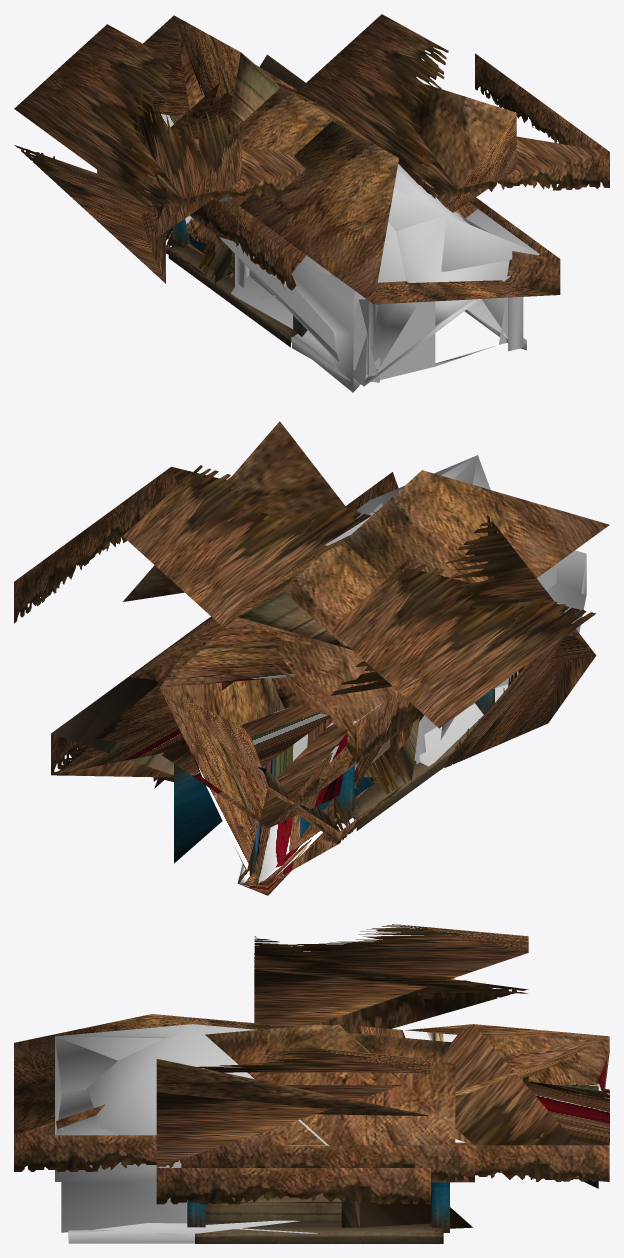
Rendered from stbuho6.dae.
The picture shows the model from 3 angles, top to bottom: view 1: azimuth 30°, elevation 25°; view 2: azimuth 150°, elevation 25°; view 3: azimuth 270°, elevation 25°; orthographic projection. The views are drawn at different scales.
Visible parts, largest first — view 1: brevno02, brevno01, frontobj, ladder, mainfigure, backobj, border; view 2: backobj, brevno02, brevno01, mainfigure, ladder, frontobj, border; view 3: brevno01, backobj, mainfigure, frontobj, brevno02, ladder, border.
Part boxes in pixels (<box>): brevno02: <box>14,24,305,283</box>; brevno01: <box>296,14,609,212</box>; frontobj: <box>219,164,539,392</box>; ladder: <box>239,121,560,304</box>; mainfigure: <box>168,82,477,347</box>; backobj: <box>97,15,305,290</box>; border: <box>167,83,317,289</box>; backobj: <box>51,591,423,895</box>; brevno02: <box>222,515,596,770</box>; brevno01: <box>14,421,371,626</box>; mainfigure: <box>140,535,494,830</box>; ladder: <box>344,470,609,583</box>; frontobj: <box>325,455,586,766</box>; border: <box>129,560,396,769</box>; brevno01: <box>156,1046,430,1204</box>; backobj: <box>335,1024,609,1228</box>; mainfigure: <box>181,1024,455,1243</box>; frontobj: <box>55,1024,328,1243</box>; brevno02: <box>254,924,528,1081</box>; ladder: <box>14,1014,288,1171</box>; border: <box>200,1024,474,1182</box>.
Size of the model in its own units: 15.55 by 19.13 by 7.93.
2 materials, 1 textured.
